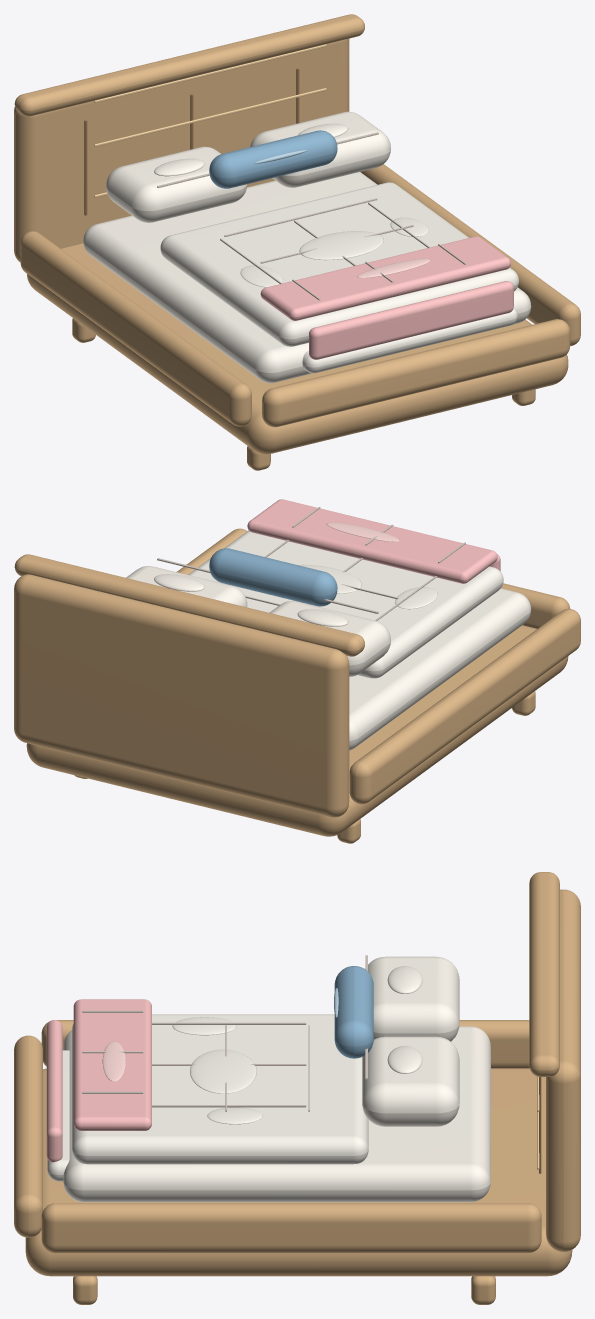
The model's file is 星湾旅店高级整床成品_v369.fbx.
3 views of the same model, one above another, from view 1: azimuth 30°, elevation 25°; view 2: azimuth 150°, elevation 25°; view 3: azimuth 270°, elevation 25° (orthographic). The views are drawn at different scales.
Visible parts, largest first — view 1: 旅店高级整床_v369_床头温木软圆背板, 旅店高级整床_v369_白色软被主体, 旅店高级整床_v369_内嵌奶油薄床垫, 旅店高级整床_v369_低矮温木床架整托, 旅店高级整床_v369_床尾低矮木梁, 旅店高级整床_v369_侧边圆角长木轨, 旅店高级整床_v369_珊瑚床尾毯圆角主体, 旅店高级整床_v369_床头顶部圆润木梁, 旅店高级整床_v369_珊瑚床尾毯前侧垂边, 旅店高级整床_v369_左奶油厚枕头, 旅店高级整床_v369_右奶油厚枕头, 旅店高级整床_v369_海蓝长腰枕 (+8 smaller); view 2: 旅店高级整床_v369_床头温木软圆背板, 旅店高级整床_v369_低矮温木床架整托, 旅店高级整床_v369_白色软被主体, 旅店高级整床_v369_侧边圆角长木轨, 旅店高级整床_v369_内嵌奶油薄床垫, 旅店高级整床_v369_珊瑚床尾毯圆角主体, 旅店高级整床_v369_床头顶部圆润木梁, 旅店高级整床_v369_海蓝长腰枕, 旅店高级整床_v369_左奶油厚枕头, 旅店高级整床_v369_右奶油厚枕头, 旅店高级整床_v369_床尾低矮木梁, 旅店高级整床_v369_白被左侧低柔鼓面 (+5 smaller); view 3: 旅店高级整床_v369_白色软被主体, 旅店高级整床_v369_侧边圆角长木轨.001, 旅店高级整床_v369_内嵌奶油薄床垫, 旅店高级整床_v369_低矮温木床架整托, 旅店高级整床_v369_床头温木软圆背板, 旅店高级整床_v369_珊瑚床尾毯圆角主体, 旅店高级整床_v369_右奶油厚枕头, 旅店高级整床_v369_左奶油厚枕头, 旅店高级整床_v369_床头顶部圆润木梁, 旅店高级整床_v369_床尾低矮木梁, 旅店高级整床_v369_海蓝长腰枕, 旅店高级整床_v369_侧边圆角长木轨 (+10 smaller).
Part boxes in pixels (<box>): 旅店高级整床_v369_床头温木软圆背板: <box>14,38,349,262</box>; 旅店高级整床_v369_白色软被主体: <box>160,182,518,346</box>; 旅店高级整床_v369_内嵌奶油薄床垫: <box>83,172,531,383</box>; 旅店高级整床_v369_低矮温木床架整托: <box>27,243,568,454</box>; 旅店高级整床_v369_床尾低矮木梁: <box>262,319,570,427</box>; 旅店高级整床_v369_侧边圆角长木轨: <box>20,231,251,426</box>; 旅店高级整床_v369_珊瑚床尾毯圆角主体: <box>260,236,510,320</box>; 旅店高级整床_v369_床头顶部圆润木梁: <box>14,14,364,116</box>; 旅店高级整床_v369_珊瑚床尾毯前侧垂边: <box>309,281,513,359</box>; 旅店高级整床_v369_左奶油厚枕头: <box>106,146,247,222</box>; 旅店高级整床_v369_右奶油厚枕头: <box>250,111,390,187</box>; 旅店高级整床_v369_海蓝长腰枕: <box>209,130,337,188</box>; 旅店高级整床_v369_床头温木软圆背板: <box>14,574,349,817</box>; 旅店高级整床_v369_低矮温木床架整托: <box>26,625,568,836</box>; 旅店高级整床_v369_白色软被主体: <box>188,530,503,678</box>; 旅店高级整床_v369_侧边圆角长木轨: <box>349,609,580,804</box>; 旅店高级整床_v369_内嵌奶油薄床垫: <box>349,588,531,750</box>; 旅店高级整床_v369_珊瑚床尾毯圆角主体: <box>247,499,497,583</box>; 旅店高级整床_v369_床头顶部圆润木梁: <box>14,554,364,656</box>; 旅店高级整床_v369_海蓝长腰枕: <box>209,548,337,606</box>; 旅店高级整床_v369_左奶油厚枕头: <box>269,601,390,676</box>; 旅店高级整床_v369_右奶油厚枕头: <box>126,566,247,607</box>; 旅店高级整床_v369_床尾低矮木梁: <box>501,583,570,628</box>; 旅店高级整床_v369_白被左侧低柔鼓面: <box>395,587,437,609</box>; 旅店高级整床_v369_白色软被主体: <box>72,1014,368,1164</box>; 旅店高级整床_v369_侧边圆角长木轨.001: <box>41,1203,541,1253</box>; 旅店高级整床_v369_内嵌奶油薄床垫: <box>63,1026,490,1202</box>; 旅店高级整床_v369_低矮温木床架整托: <box>25,1068,572,1276</box>; 旅店高级整床_v369_床头温木软圆背板: <box>546,889,580,1251</box>; 旅店高级整床_v369_珊瑚床尾毯圆角主体: <box>73,999,151,1130</box>; 旅店高级整床_v369_右奶油厚枕头: <box>362,1036,459,1126</box>; 旅店高级整床_v369_左奶油厚枕头: <box>368,956,459,1041</box>; 旅店高级整床_v369_床头顶部圆润木梁: <box>529,872,559,1076</box>; 旅店高级整床_v369_床尾低矮木梁: <box>14,1035,42,1237</box>; 旅店高级整床_v369_海蓝长腰枕: <box>334,966,373,1058</box>; 旅店高级整床_v369_侧边圆角长木轨: <box>41,1020,529,1068</box>.
Size of the model in its own units: 158 by 101 by 195.
